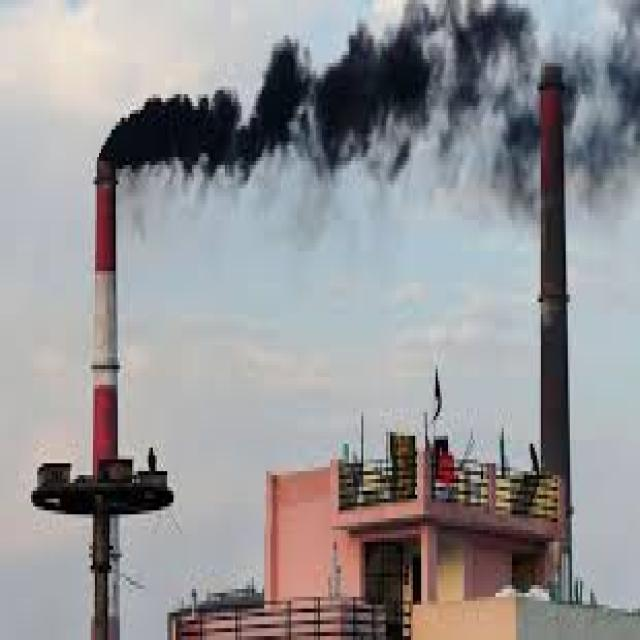Smoke: (105, 8, 626, 177)
